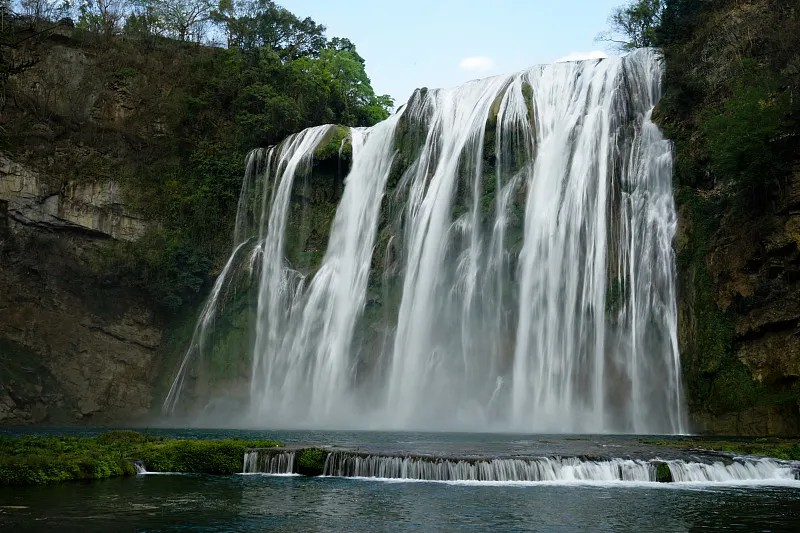Huangguoshu: (165, 47, 683, 435)
